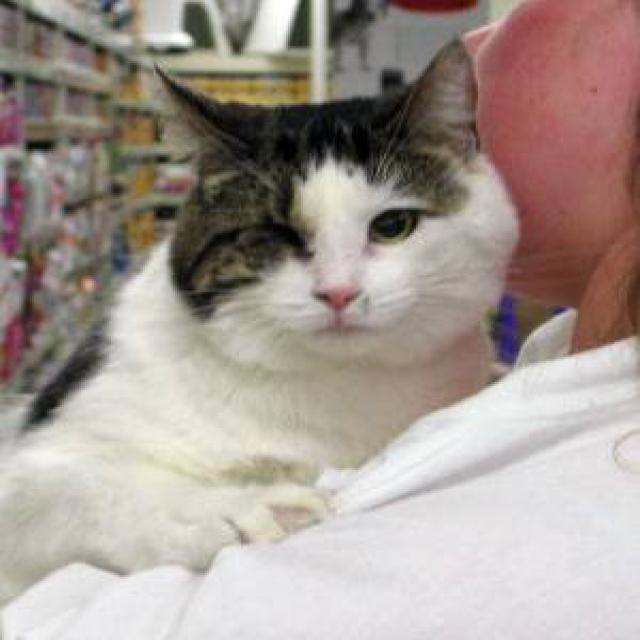cat: (0, 31, 521, 638)
